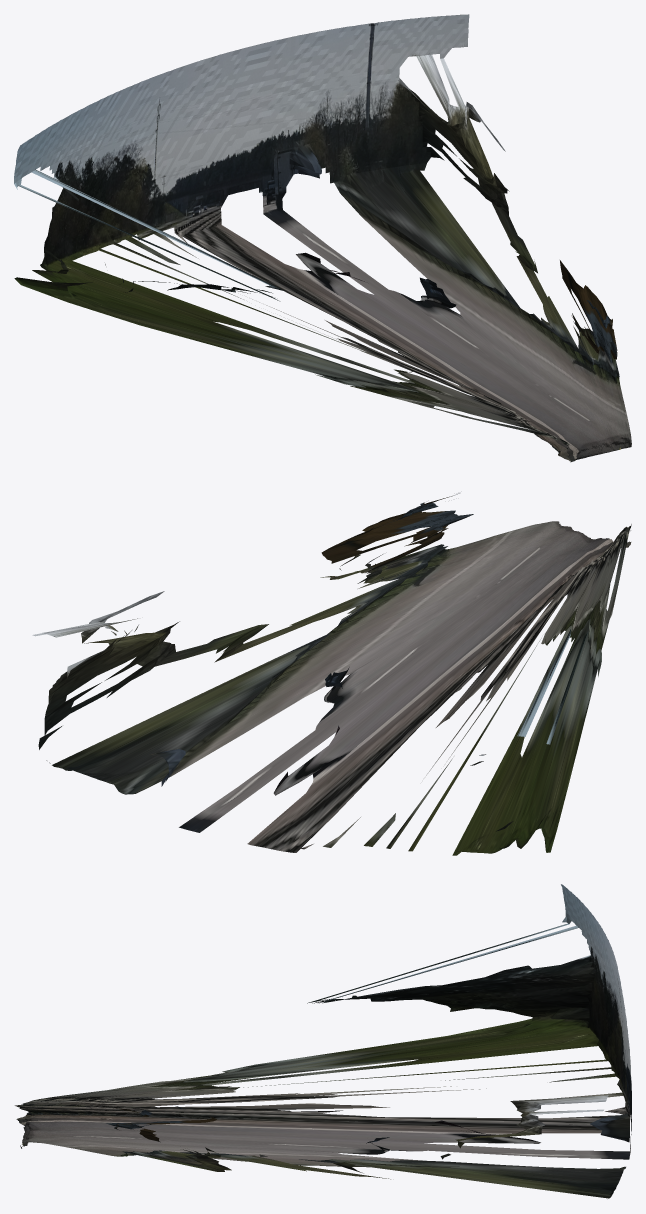
3 renders of one model, top to bottom at view 1: azimuth 30°, elevation 25°; view 2: azimuth 150°, elevation 25°; view 3: azimuth 270°, elevation 25°, orthographic. The views are drawn at different scales.
Parts seen in each view (by area): view 1: defaultobject; view 2: defaultobject; view 3: defaultobject.
Boxes of the visible parts, left/top/right/bottom form: defaultobject: left=14, top=14, right=631, bottom=462; defaultobject: left=32, top=493, right=631, bottom=855; defaultobject: left=14, top=884, right=631, bottom=1198.
Size of the model in its own units: 34.85 by 12.65 by 44.89.
1 material, 1 textured.
